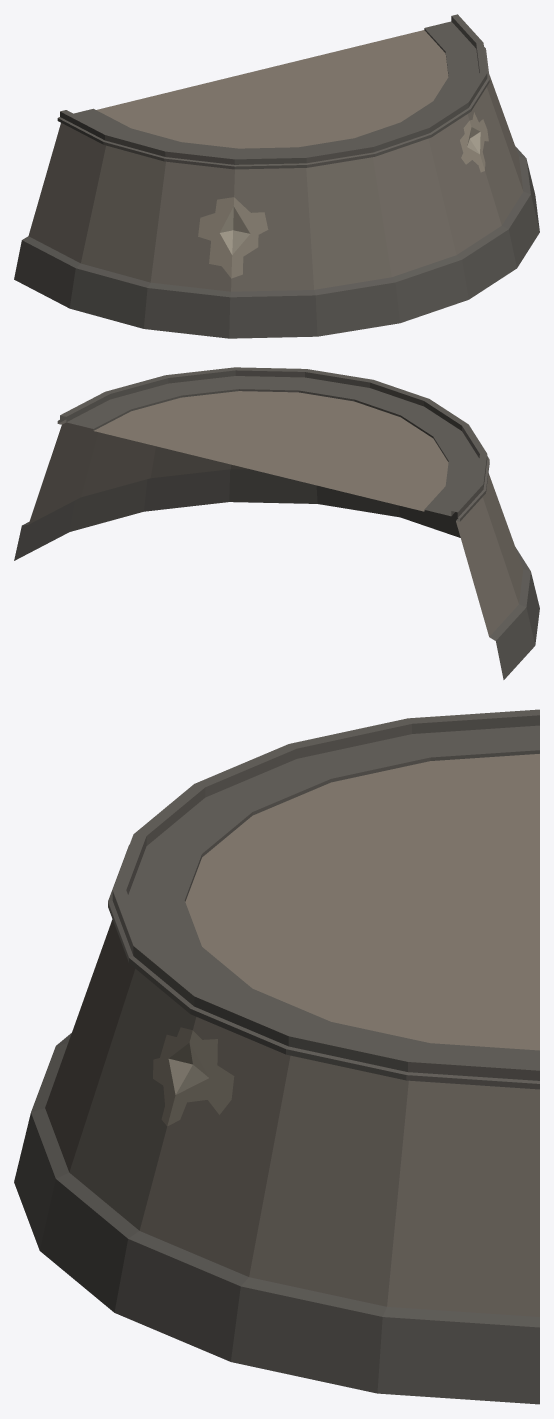
The model's file is SM_Bld_Fort_Base_Circle_01.glb.
3 renders of one model, top to bottom at view 1: azimuth 30°, elevation 25°; view 2: azimuth 150°, elevation 25°; view 3: azimuth 270°, elevation 25°, orthographic. The views are drawn at different scales.
Visible parts, largest first — view 1: SM_Bld_Fort_Base_Circle_01; view 2: SM_Bld_Fort_Base_Circle_01; view 3: SM_Bld_Fort_Base_Circle_01.
Part boxes in pixels (bbox=[...]): SM_Bld_Fort_Base_Circle_01: bbox=[14, 14, 539, 338]; SM_Bld_Fort_Base_Circle_01: bbox=[14, 367, 539, 679]; SM_Bld_Fort_Base_Circle_01: bbox=[14, 709, 539, 1404].
Bounding box in the file's own units: 0.3441 × 0.1054 × 0.1721.
Materials: 1 (1 with a texture image).
